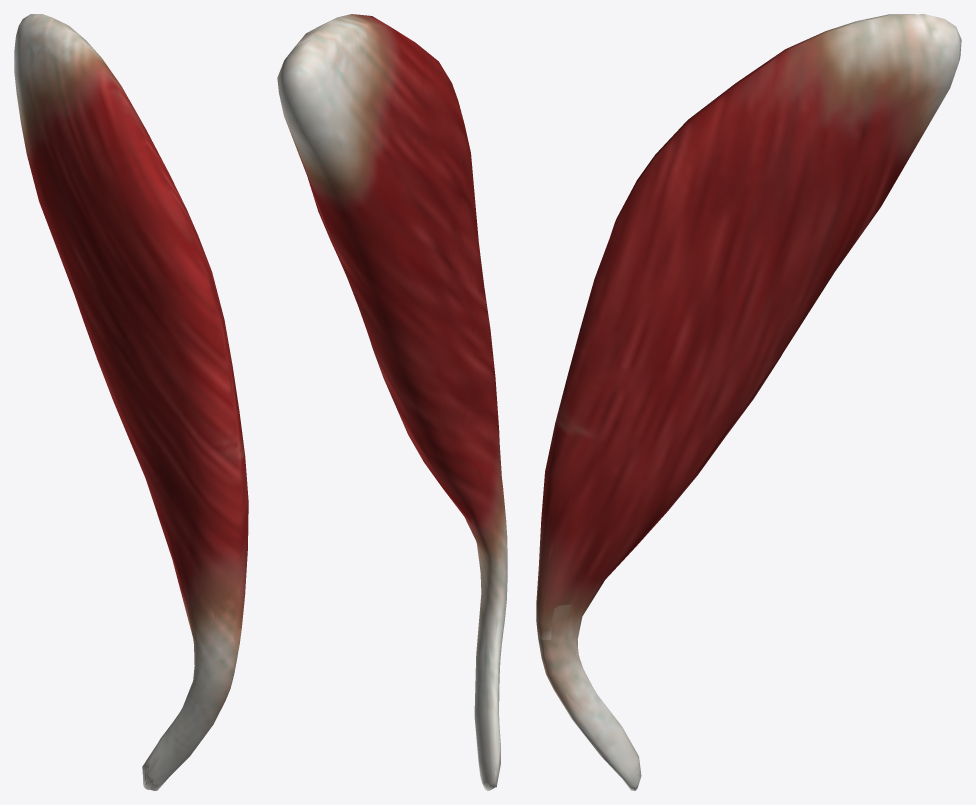
The model's file is L Vastus lateralis.fbx.
3 renders of one model, left to right at view 1: azimuth 30°, elevation 25°; view 2: azimuth 150°, elevation 25°; view 3: azimuth 270°, elevation 25°, orthographic. The views are drawn at different scales.
Parts seen in each view (by area): view 1: L Vastus lateralis, L Vastus lateralis low, L Vastus lateralis high; view 2: L Vastus lateralis, L Vastus lateralis low, L Vastus lateralis high; view 3: L Vastus lateralis, L Vastus lateralis low, L Vastus lateralis high.
Boxes of the visible parts, x1,y1,x2,y2 form: L Vastus lateralis: (14, 14, 248, 790); L Vastus lateralis low: (21, 14, 244, 790); L Vastus lateralis high: (17, 22, 245, 785); L Vastus lateralis: (277, 14, 507, 790); L Vastus lateralis low: (278, 14, 505, 790); L Vastus lateralis high: (280, 25, 506, 786); L Vastus lateralis: (536, 14, 961, 790); L Vastus lateralis low: (536, 15, 959, 787); L Vastus lateralis high: (537, 14, 959, 773).
Bounding box in the file's own units: 1.16 × 9.35 × 4.59.
